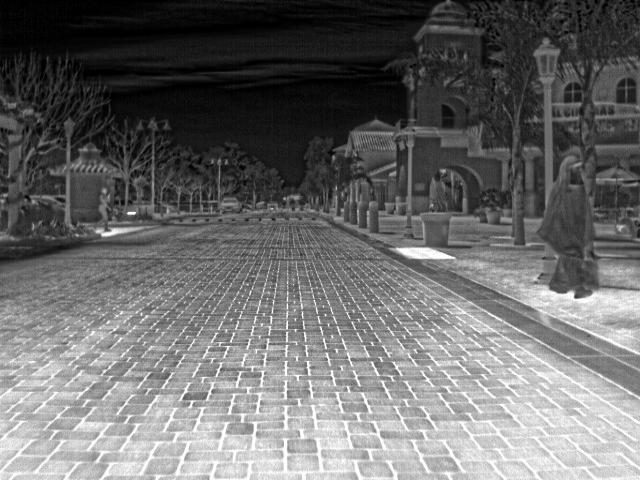car: (33, 196, 61, 209), (220, 197, 239, 214), (156, 200, 176, 212), (140, 197, 153, 211), (50, 195, 64, 206), (122, 200, 135, 211), (266, 199, 279, 210)
person: (546, 152, 596, 299), (97, 184, 111, 233)
